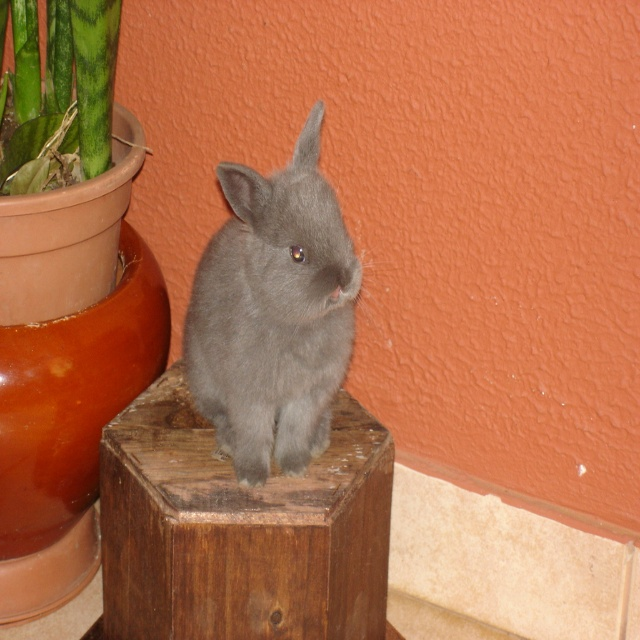Rabbit: (182, 99, 392, 490)
